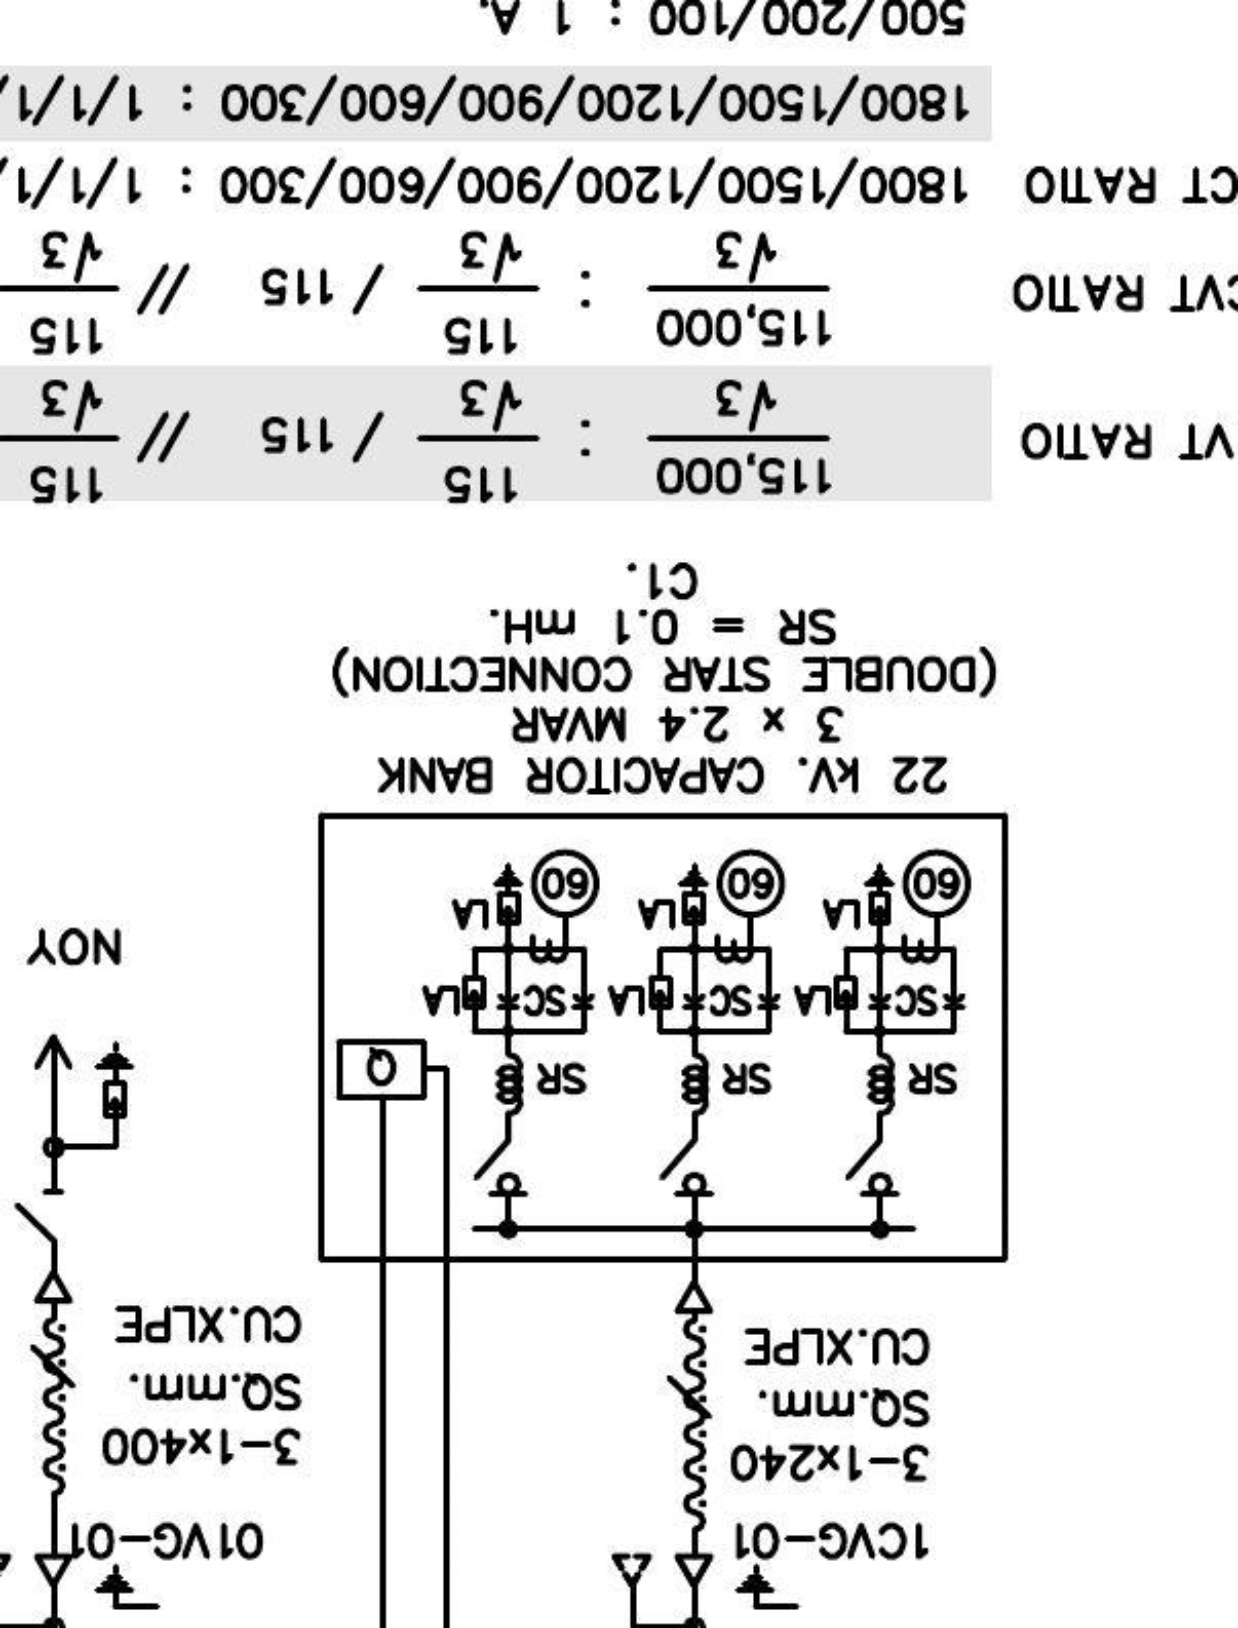22_cap_bank: (316, 810, 1010, 1265)
22_ds_la_out: (13, 1032, 135, 1242)
Q: (334, 1038, 429, 1101)
terminator_single: (672, 1280, 715, 1316), (33, 1269, 74, 1306)
